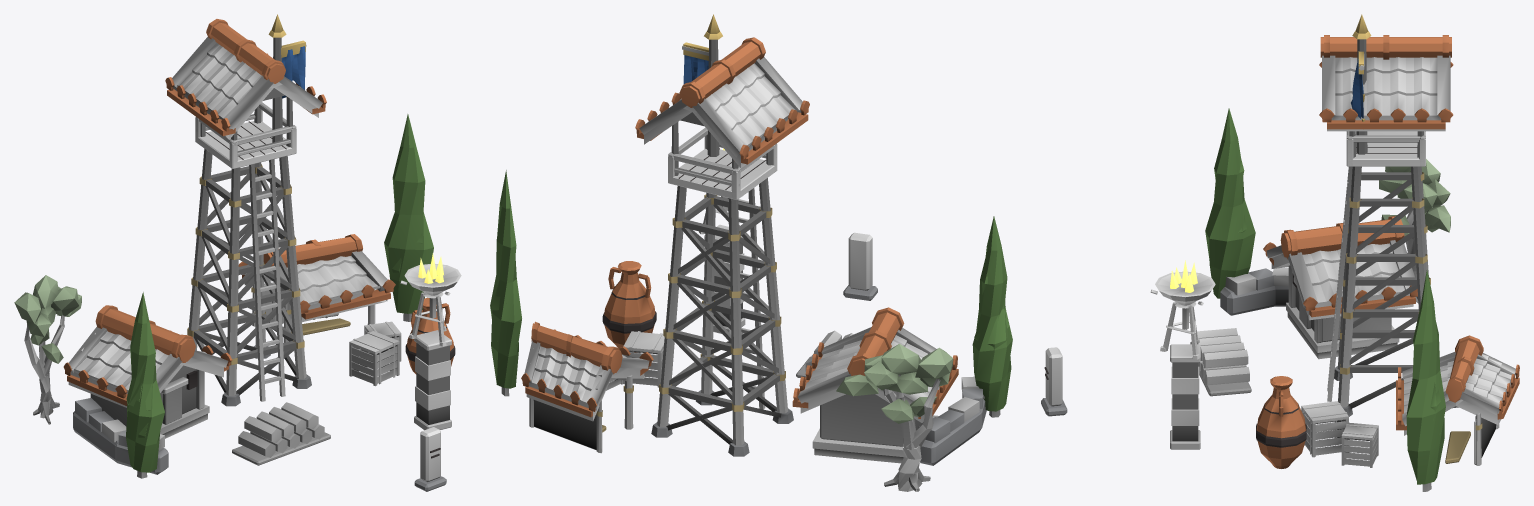
File: watchtower-l1.glb
The picture shows the model from 3 angles, left to right: view 1: azimuth 30°, elevation 25°; view 2: azimuth 150°, elevation 25°; view 3: azimuth 270°, elevation 25°; orthographic projection. The views are drawn at different scales.
Parts seen in each view (by area): view 1: watchtower-l1; view 2: watchtower-l1; view 3: watchtower-l1.
Part boxes in pixels (box(x1,y1,x2,y2)): watchtower-l1: box(14, 14, 461, 491); watchtower-l1: box(490, 14, 1012, 491); watchtower-l1: box(1041, 14, 1519, 491).
Bounding box in the file's own units: 1.58 × 1.35 × 1.48.
